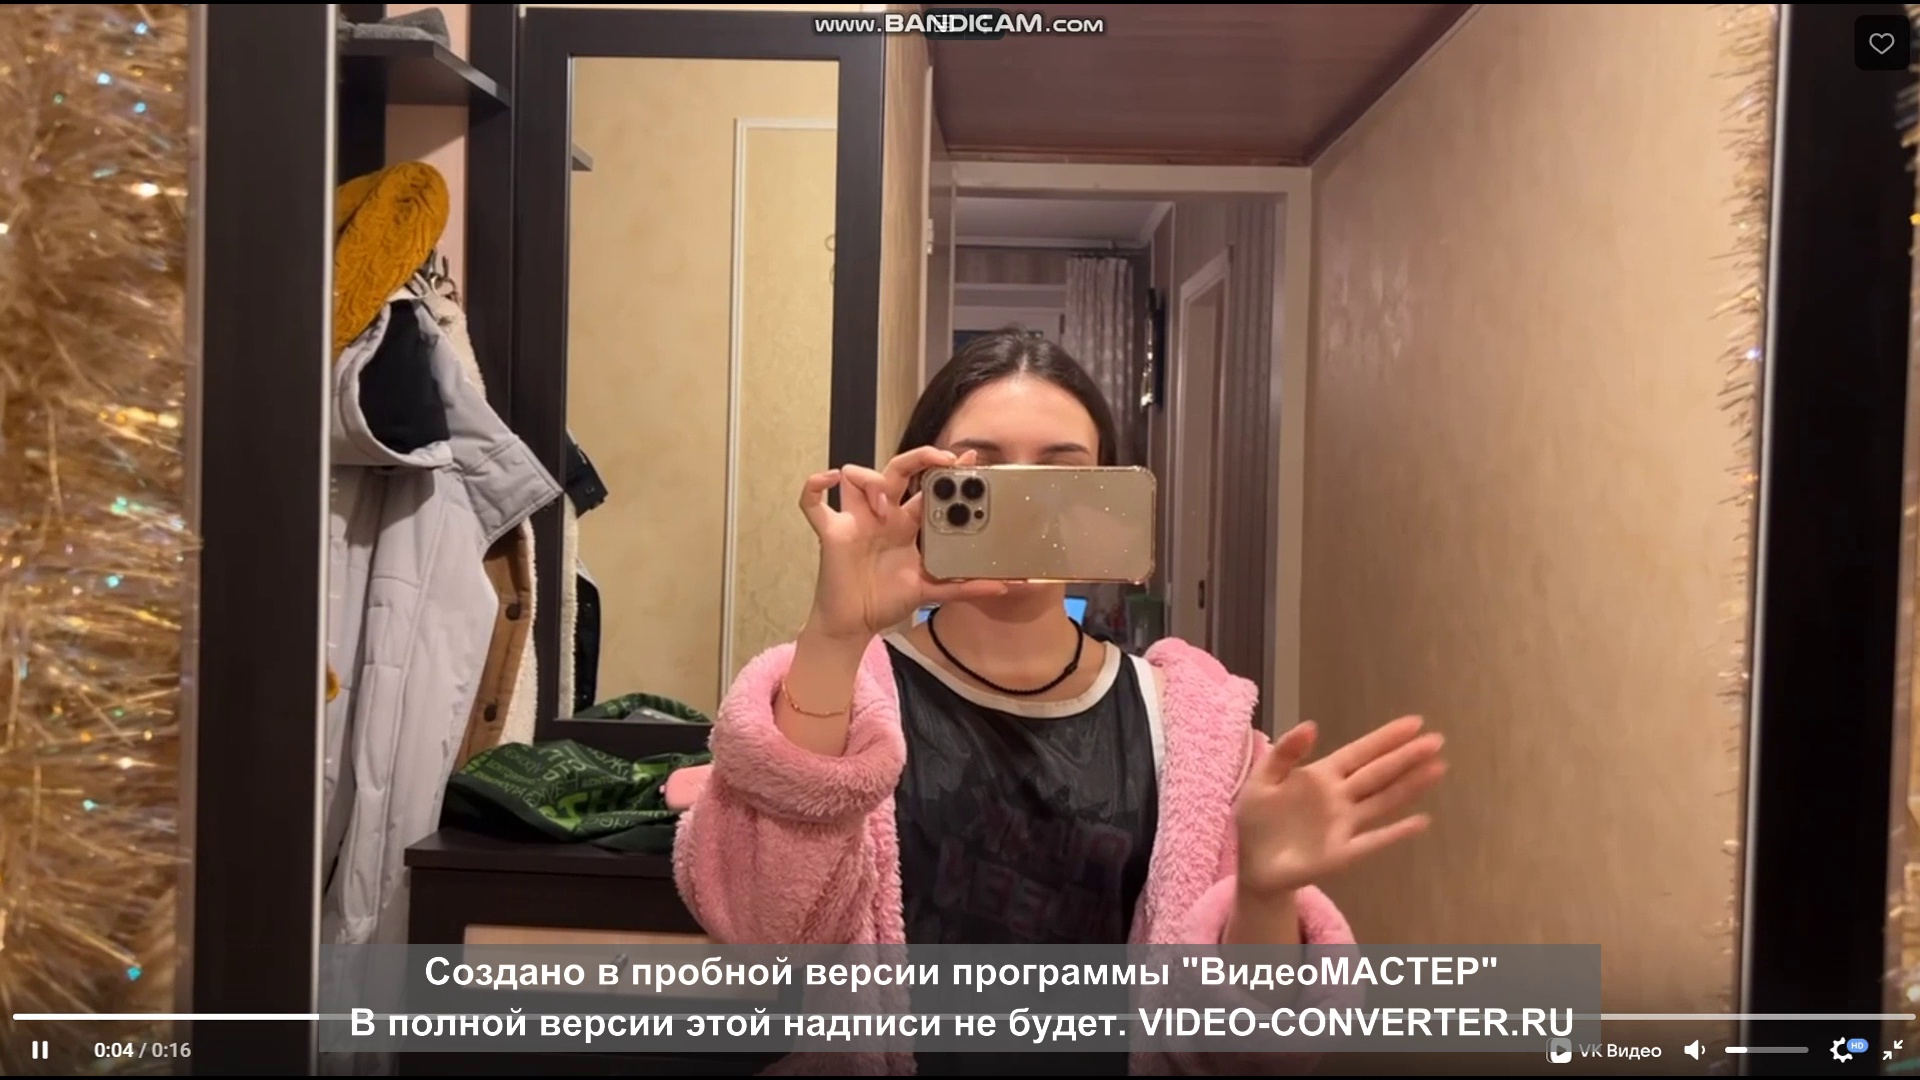Ладонь: (1236, 712, 1452, 893)
